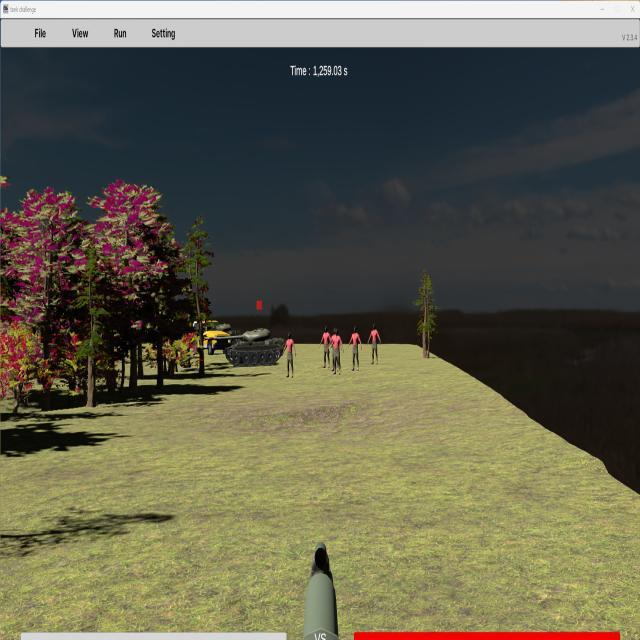Human: (328, 327, 344, 375), (348, 325, 362, 372), (283, 331, 296, 379), (319, 325, 333, 369), (368, 323, 381, 366)
Tank: (208, 326, 286, 367)
car: (191, 320, 233, 355)
